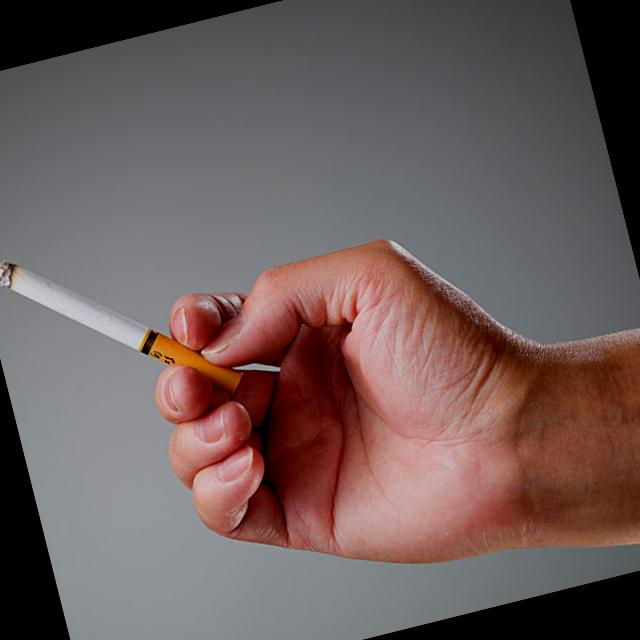cigarette: (0, 205, 253, 444)
